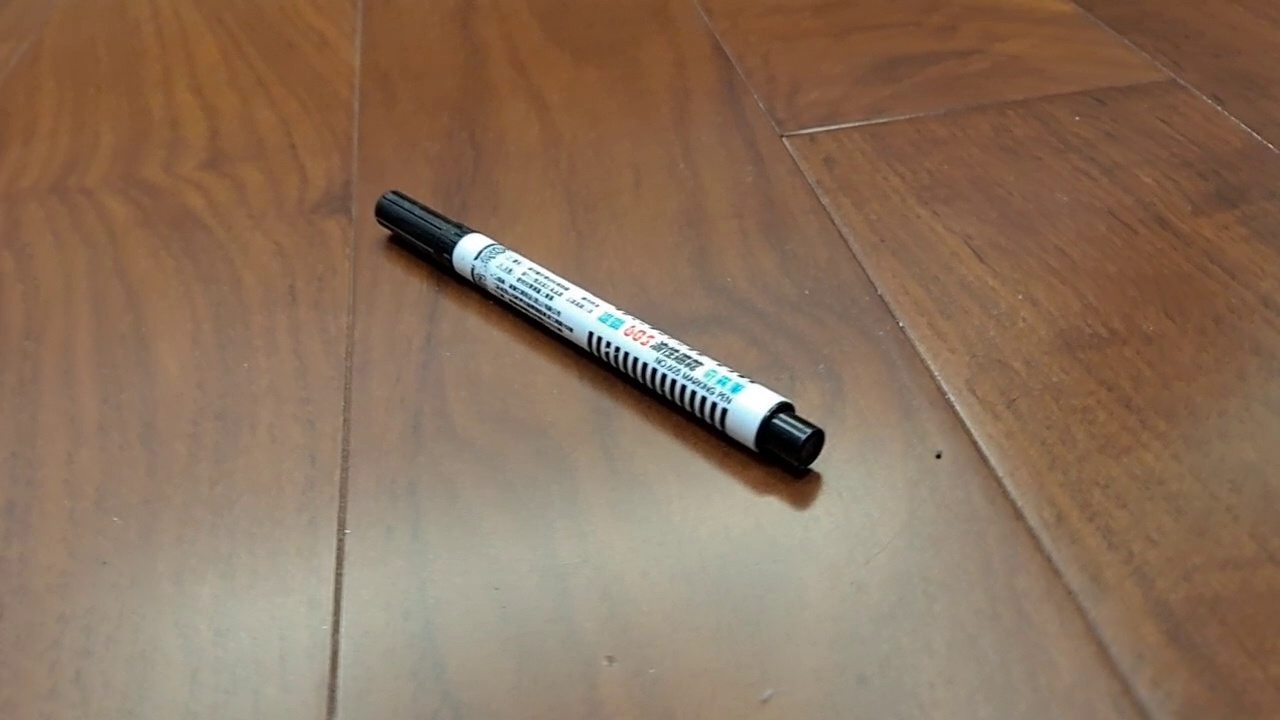pen: (374, 189, 826, 469)
